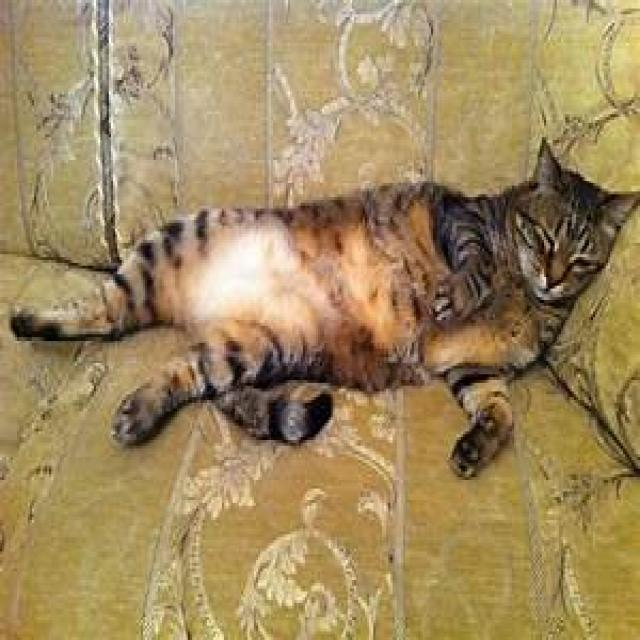cat: (8, 134, 638, 477)
